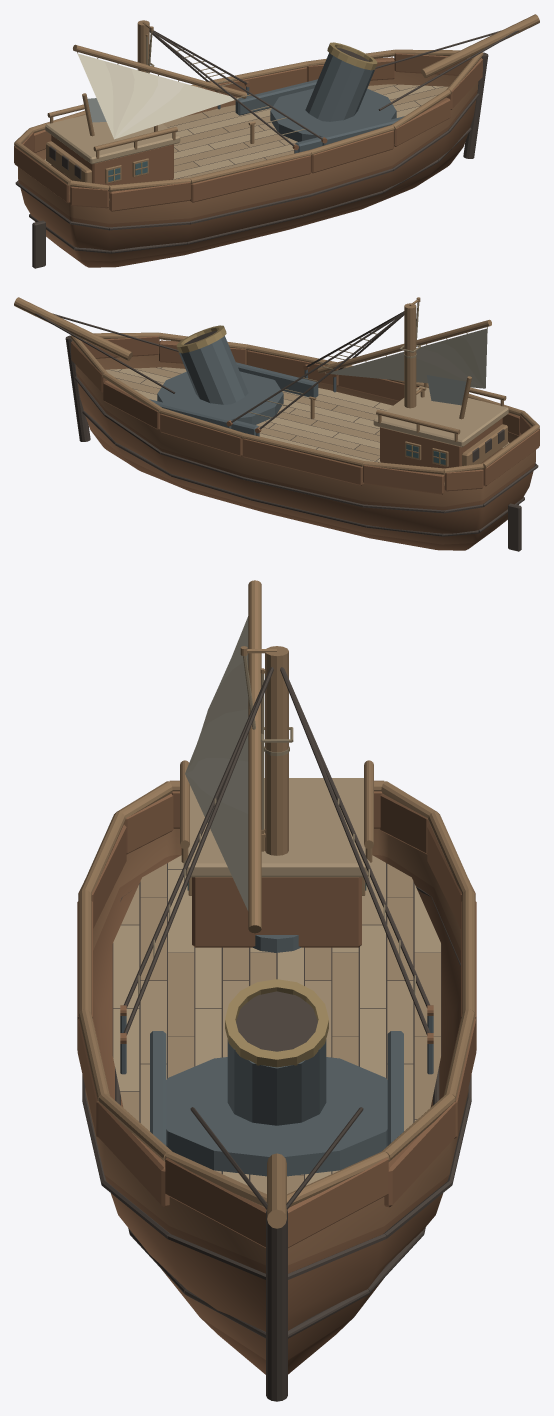
Rendered from bombardShip.glb.
The picture shows the model from 3 angles, top to bottom: view 1: azimuth 30°, elevation 25°; view 2: azimuth 150°, elevation 25°; view 3: azimuth 270°, elevation 25°; orthographic projection. The views are drawn at different scales.
Parts seen in each view (by area): view 1: Hull, Gun, Sail_mast0_main, Rig_mast0; view 2: Hull, Gun, Sail_mast0_main, Rig_mast0, OwnerFlag; view 3: Hull, Gun, Sail_mast0_main, Rig_mast0.
Boxes of the visible parts, bbox=[...] form: Hull: bbox=[14, 14, 539, 268]; Gun: bbox=[270, 42, 396, 141]; Sail_mast0_main: bbox=[77, 53, 238, 139]; Rig_mast0: bbox=[73, 22, 246, 98]; Hull: bbox=[14, 297, 539, 551]; Gun: bbox=[157, 325, 283, 424]; Sail_mast0_main: bbox=[326, 328, 487, 388]; Rig_mast0: bbox=[317, 297, 491, 394]; OwnerFlag: bbox=[426, 375, 466, 405]; Hull: bbox=[77, 646, 476, 1401]; Gun: bbox=[166, 979, 387, 1176]; Sail_mast0_main: bbox=[185, 616, 248, 910]; Rig_mast0: bbox=[240, 580, 293, 933].
Size of the model in its own units: 213 by 88.7 by 72.8.
